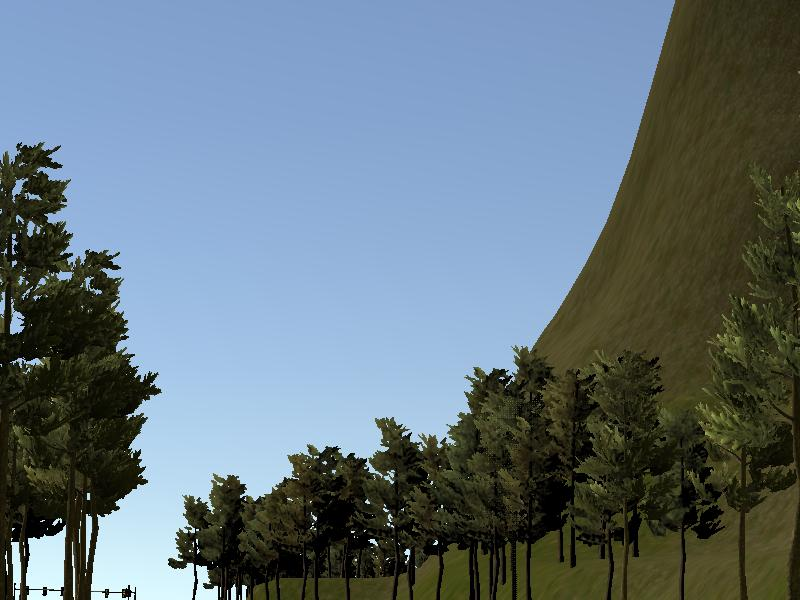background: (3, 2, 800, 597)
